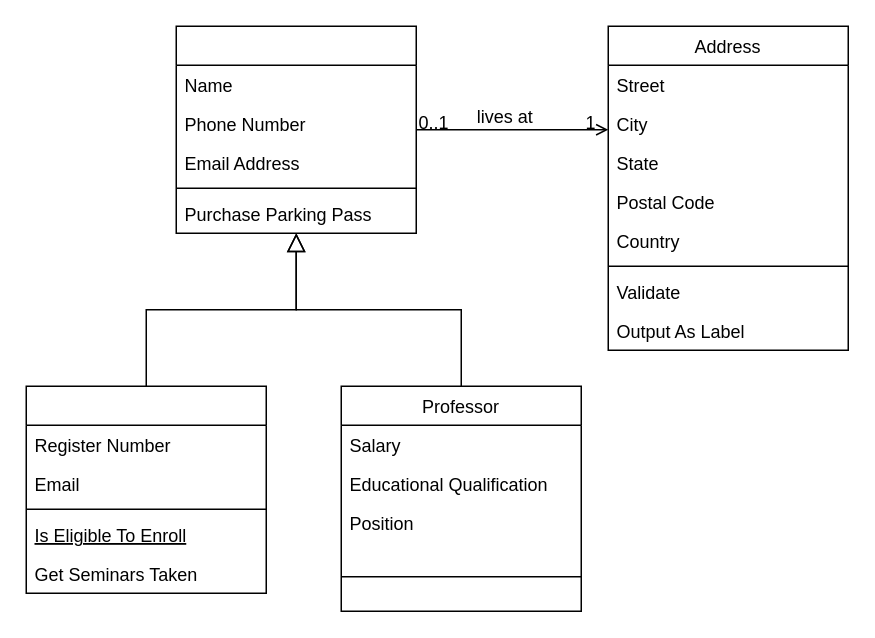
The diagram is 875 pixels wide and 638 high, and some of its shapes have lost their labels. The shapes that lost their labels are listed below. From the top down, each one's box as (x1, y1, x2, y2) in pixels, then its label:
(175, 25, 416, 233): Person
(25, 385, 266, 593): Student
